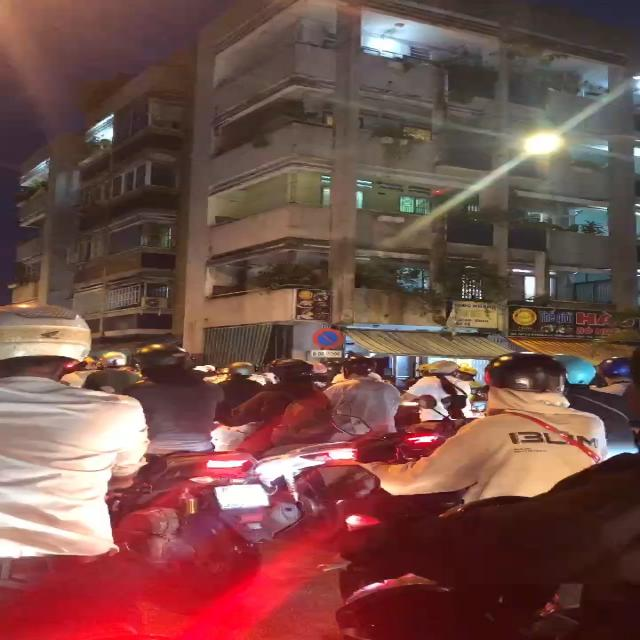Bien bao cam do xe: (309, 324, 345, 350)
